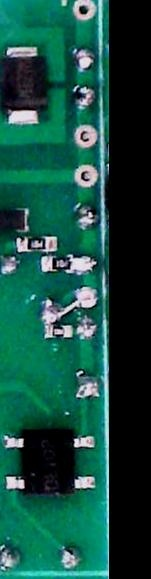chip-resistor: (14, 234, 56, 254), (40, 254, 76, 273), (43, 324, 74, 340)
diode: (0, 44, 48, 126), (0, 206, 31, 235)
ic: (0, 428, 97, 497)
